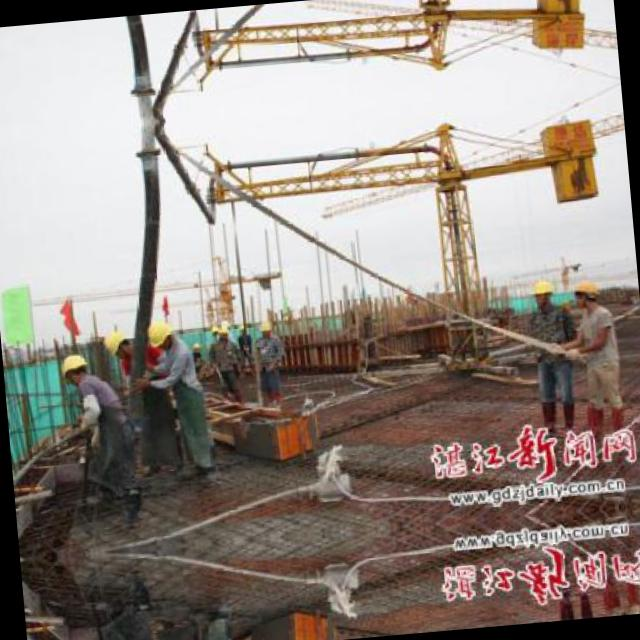helmet: (52, 346, 92, 386), (144, 316, 180, 350), (526, 274, 560, 309), (568, 274, 600, 310), (100, 325, 133, 357), (254, 316, 273, 337)
